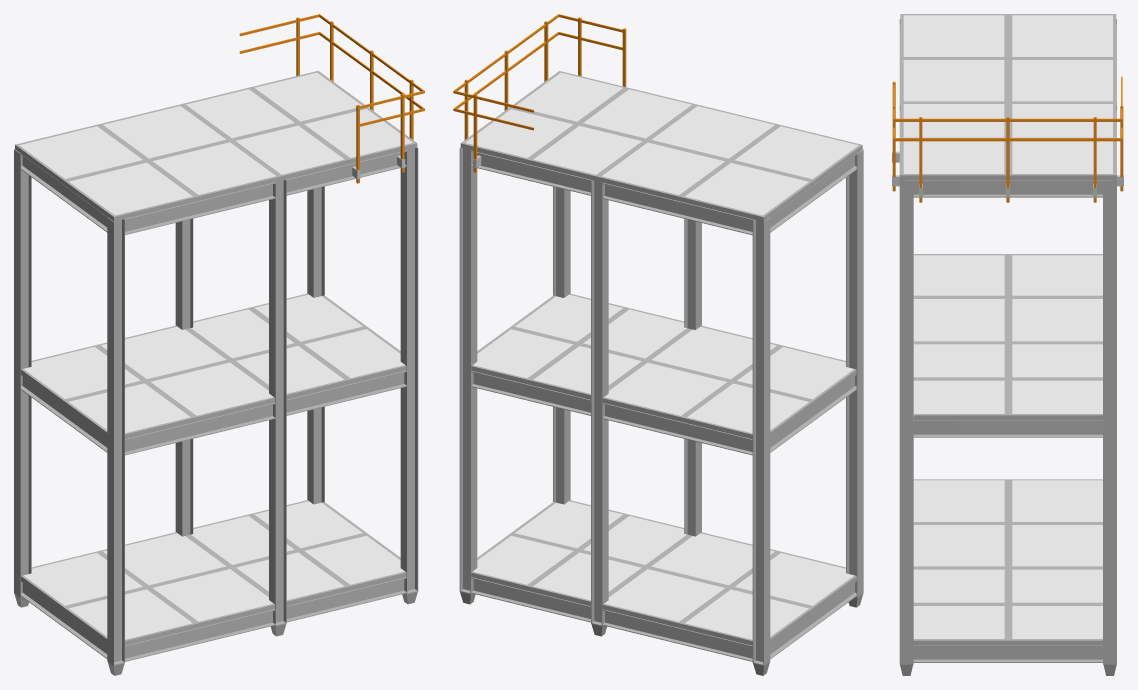
The model's file is SM_H_Building_Tide_DeepJail_04_Shelf_04c_ATLAS.fbx.
3 views of the same model, side by side, from view 1: azimuth 30°, elevation 25°; view 2: azimuth 150°, elevation 25°; view 3: azimuth 270°, elevation 25° (orthographic). The views are drawn at different scales.
Visible parts, largest first — view 1: SM_H_Building_Tide_DeepJail_04_Shelf_04c_ATLAS; view 2: SM_H_Building_Tide_DeepJail_04_Shelf_04c_ATLAS; view 3: SM_H_Building_Tide_DeepJail_04_Shelf_04c_ATLAS.
Part boxes in pixels (box(x1,y1,x2,y2)): SM_H_Building_Tide_DeepJail_04_Shelf_04c_ATLAS: box(14, 14, 424, 675); SM_H_Building_Tide_DeepJail_04_Shelf_04c_ATLAS: box(453, 14, 863, 675); SM_H_Building_Tide_DeepJail_04_Shelf_04c_ATLAS: box(892, 14, 1123, 675).
Bounding box in the file's own units: 555 × 330 × 883.
